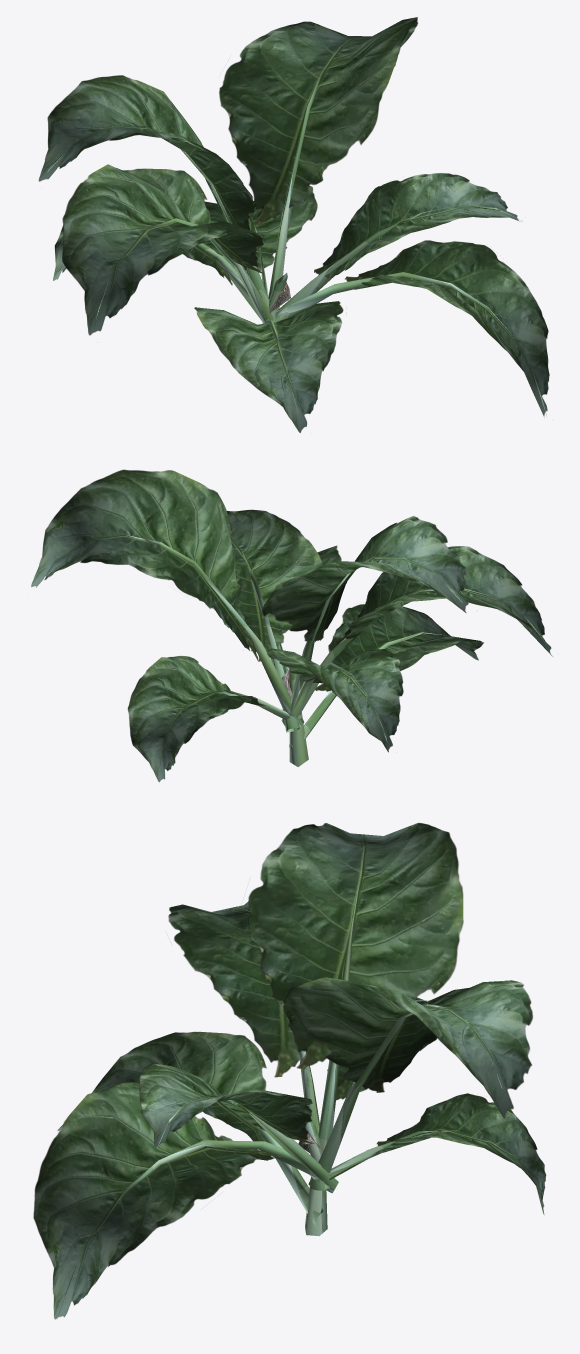
Rendered from talas_01_A_001.glb.
The picture shows the model from 3 angles, top to bottom: view 1: azimuth 30°, elevation 25°; view 2: azimuth 150°, elevation 25°; view 3: azimuth 270°, elevation 25°; orthographic projection. The views are drawn at different scales.
Visible parts, largest first — view 1: talas_01_A.001; view 2: talas_01_A.001; view 3: talas_01_A.001.
Boxes of the visible parts, x1,y1,x2,y2 form: talas_01_A.001: [38, 17, 549, 432]; talas_01_A.001: [31, 469, 552, 782]; talas_01_A.001: [33, 822, 546, 1319].
Bounding box in the file's own units: 0.9303 × 0.544 × 0.798.
Materials: 3 (3 with a texture image).
